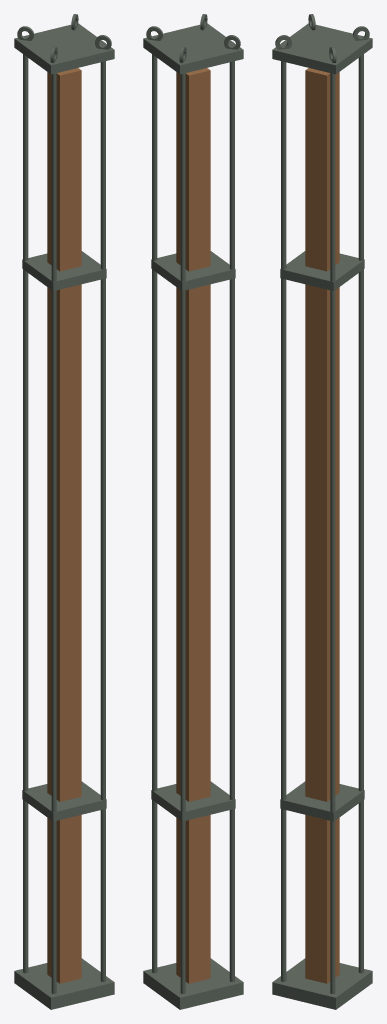
Rendered from long-load-carrier.glb.
3 renders of one model, left to right at view 1: azimuth 30°, elevation 25°; view 2: azimuth 210°, elevation 25°; view 3: azimuth 330°, elevation 25°, orthographic.
Parts seen in each view (by area): view 1: actual-payload, tension-rod--0.17-0.17, tension-rod-0.17-0.17, tension-rod--0.17--0.17, head-plate, bottom-shoe, lateral-collar-4.75, lateral-collar-1.25; view 2: actual-payload, tension-rod-0.17--0.17, tension-rod--0.17--0.17, tension-rod-0.17-0.17, head-plate, bottom-shoe, lateral-collar-4.75, lateral-collar-1.25; view 3: actual-payload, tension-rod-0.17-0.17, tension-rod--0.17-0.17, tension-rod-0.17--0.17, head-plate, bottom-shoe, lateral-collar-4.75, lateral-collar-1.25.
Boxes of the visible parts, <box> form: actual-payload: <box>47,68,81,983</box>; tension-rod--0.17-0.17: <box>51,73,56,993</box>; tension-rod-0.17-0.17: <box>100,61,105,981</box>; tension-rod--0.17--0.17: <box>23,54,28,973</box>; head-plate: <box>14,14,114,74</box>; bottom-shoe: <box>14,958,114,1009</box>; lateral-collar-4.75: <box>22,251,106,291</box>; lateral-collar-1.25: <box>22,781,106,821</box>; actual-payload: <box>176,68,210,983</box>; tension-rod-0.17--0.17: <box>180,73,185,993</box>; tension-rod--0.17--0.17: <box>229,61,234,981</box>; tension-rod-0.17-0.17: <box>152,54,157,973</box>; head-plate: <box>143,14,243,74</box>; bottom-shoe: <box>143,958,243,1009</box>; lateral-collar-4.75: <box>151,251,235,291</box>; lateral-collar-1.25: <box>151,781,235,821</box>; actual-payload: <box>305,68,339,983</box>; tension-rod-0.17-0.17: <box>330,73,335,993</box>; tension-rod--0.17-0.17: <box>281,61,286,981</box>; tension-rod-0.17--0.17: <box>358,54,363,973</box>; head-plate: <box>272,14,372,74</box>; bottom-shoe: <box>272,958,372,1009</box>; lateral-collar-4.75: <box>280,251,364,291</box>; lateral-collar-1.25: <box>280,781,364,821</box>.
Size of the model in its own units: 0.44 by 6.32 by 0.44.
